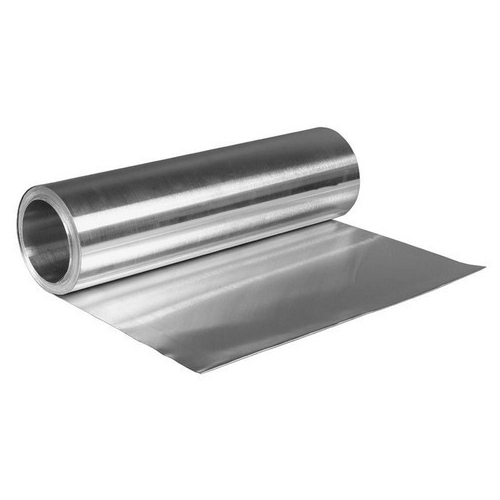metal: (14, 125, 486, 376)
